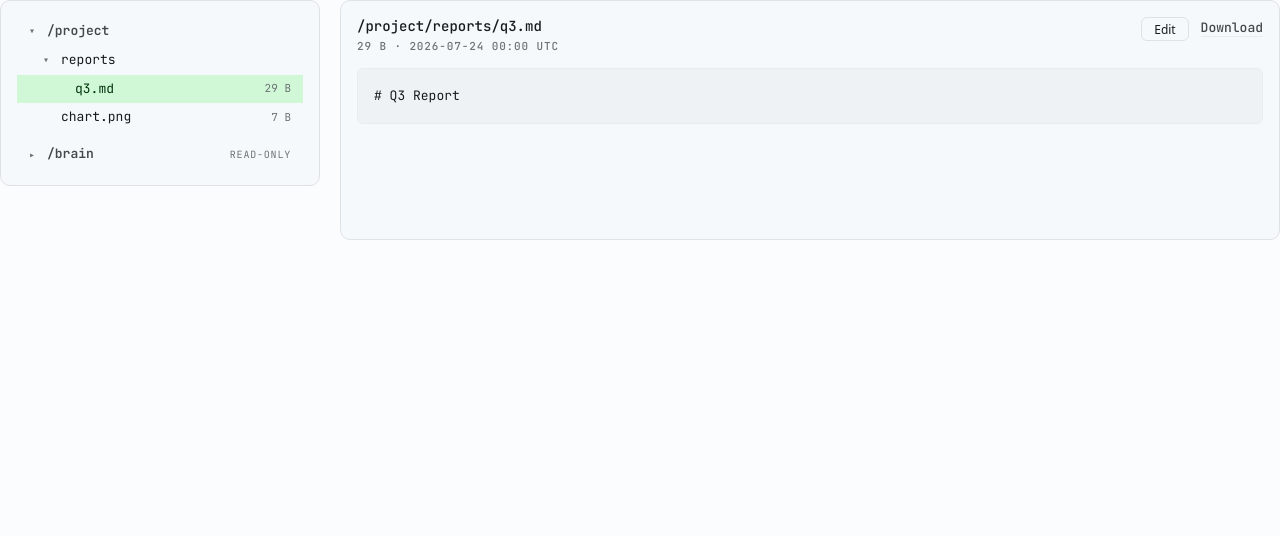
Test case: FilesBody editing › surfaces a save failure instead of silently dropping the edit
Click the button "Edit" at (1165, 29), box [1141,17,1189,41]
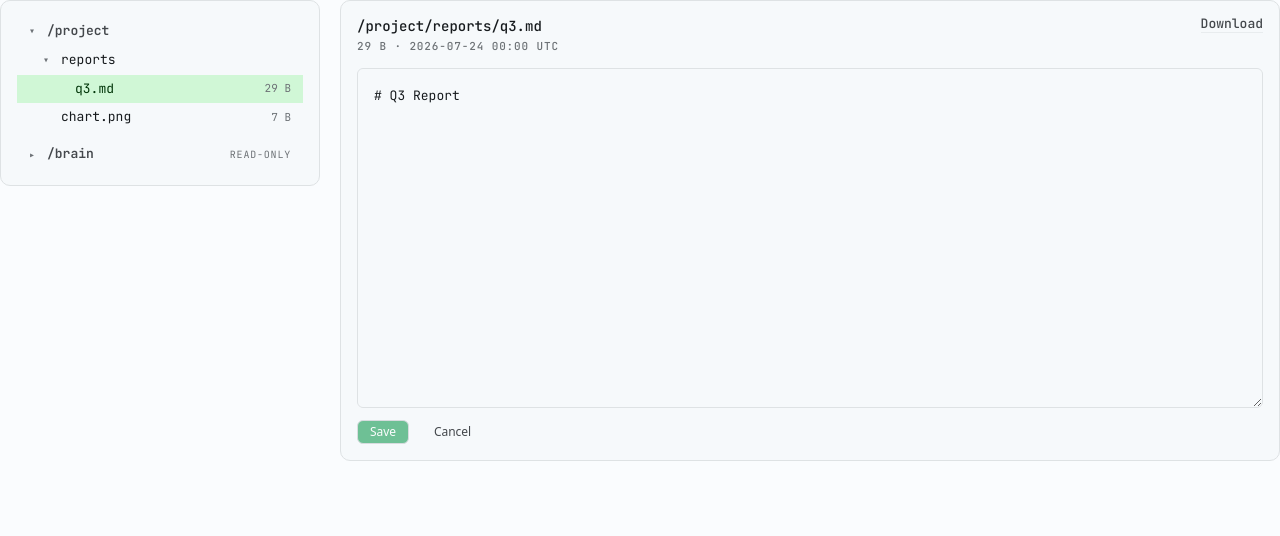
Replace the text in the text box with "changed" at (810, 238), box [357,68,1263,408]
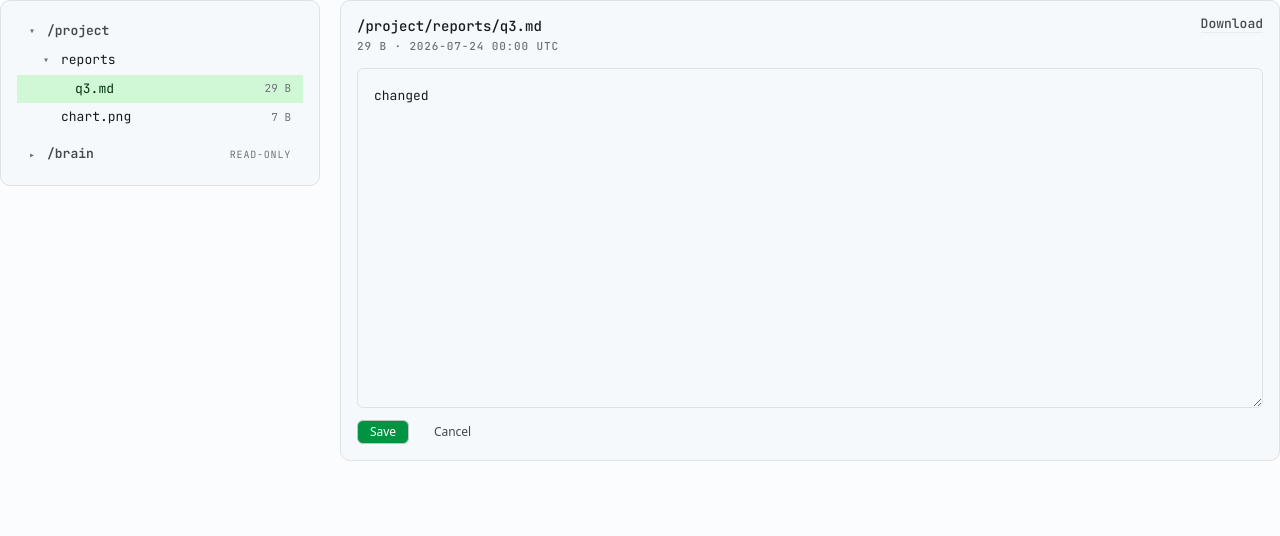
Click the button "Save" at (383, 432), box [357,420,409,444]
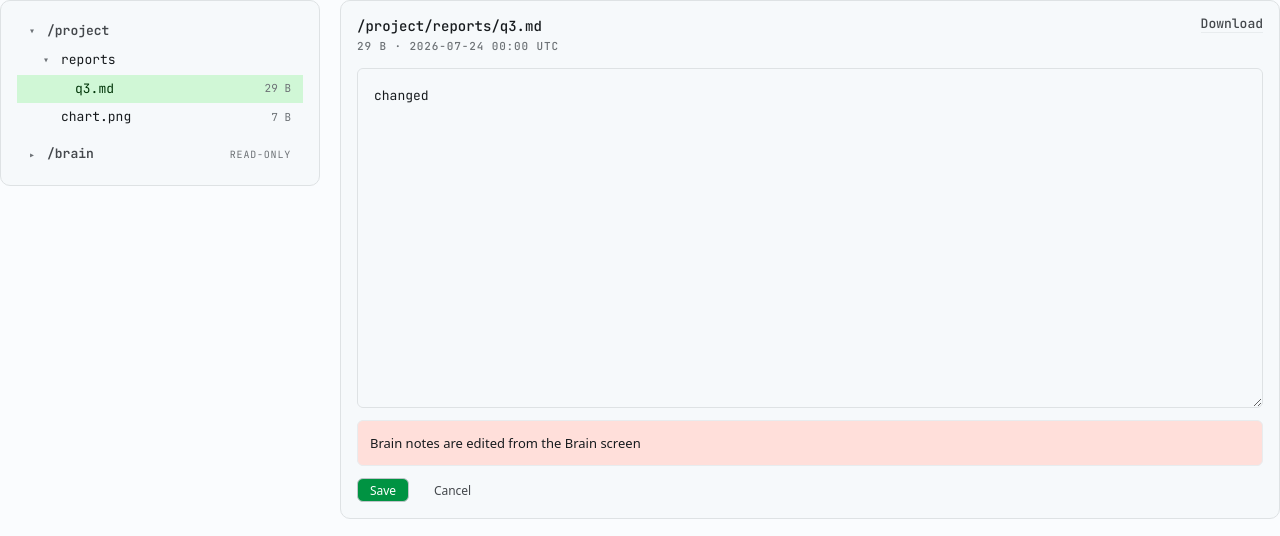
Expected: the text "Brain notes are edited from the Brain screen" is shown, [357,420,1263,466]
